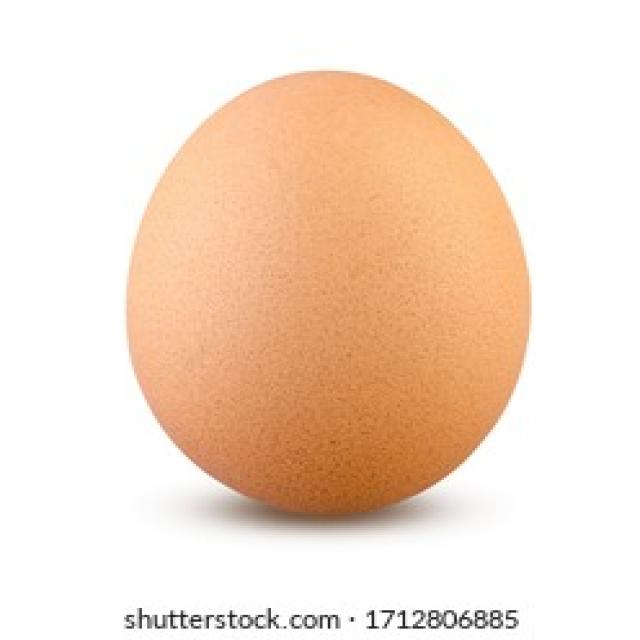Brown Egg: (123, 60, 542, 528)
